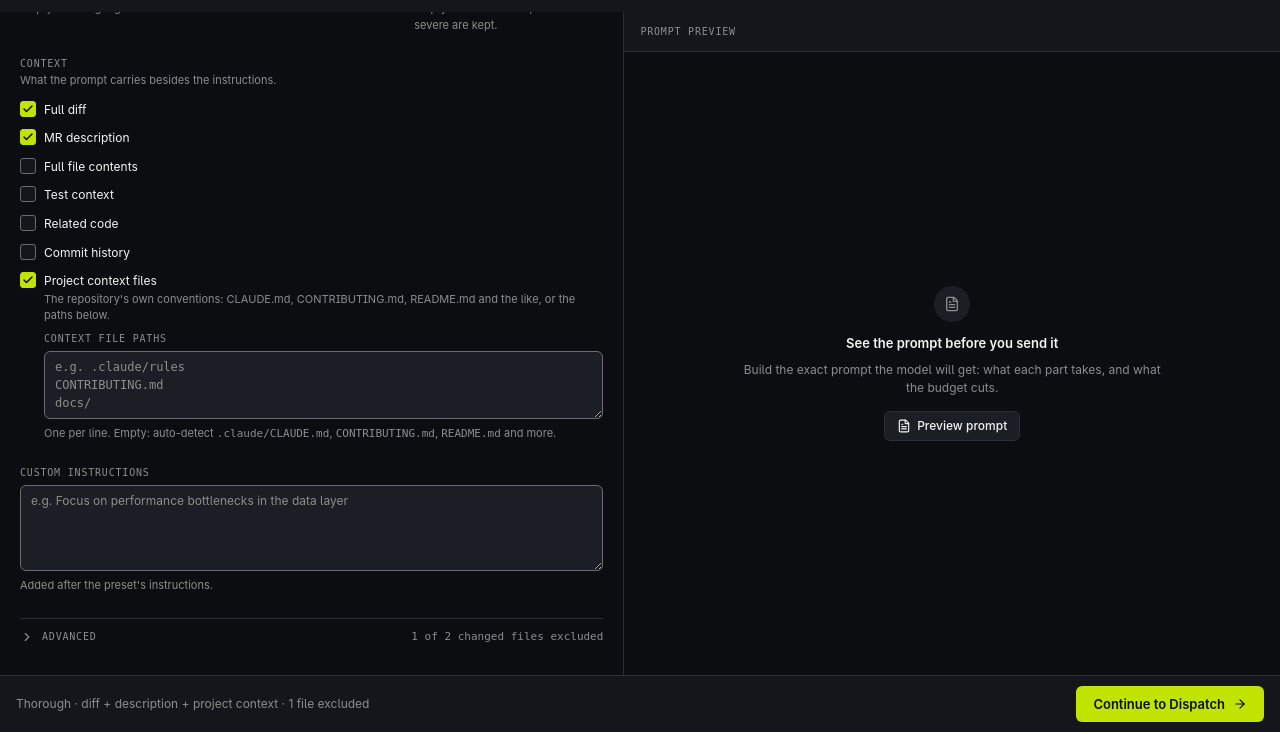
BriefStage — advanced › clamps the prompt budget to the allowed range
(page scrolled)
Click the button "Advanced 1 of 2 changed files excluded" at (69, 637), box [20, 619, 603, 655]
(page scrolled)
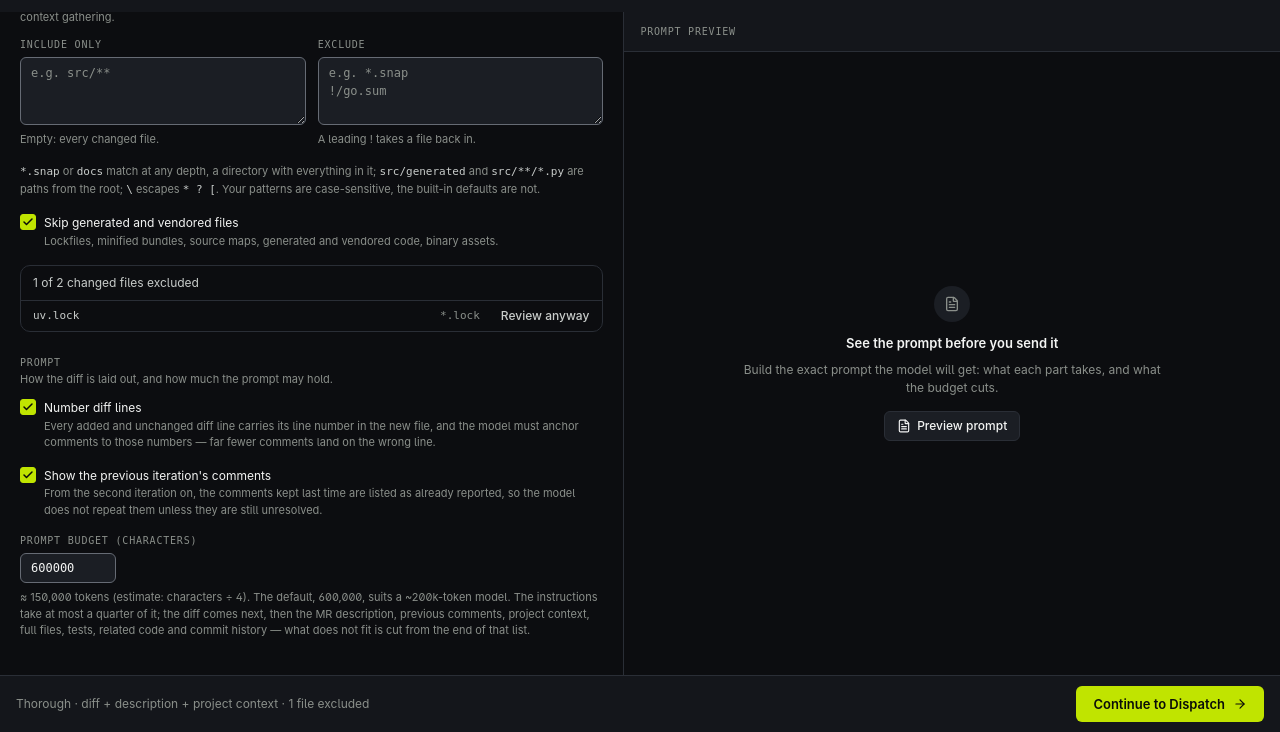
Replace the text in the number field labelled "Prompt budget (characters)" with "5000" at (68, 568), box [20, 554, 116, 584]
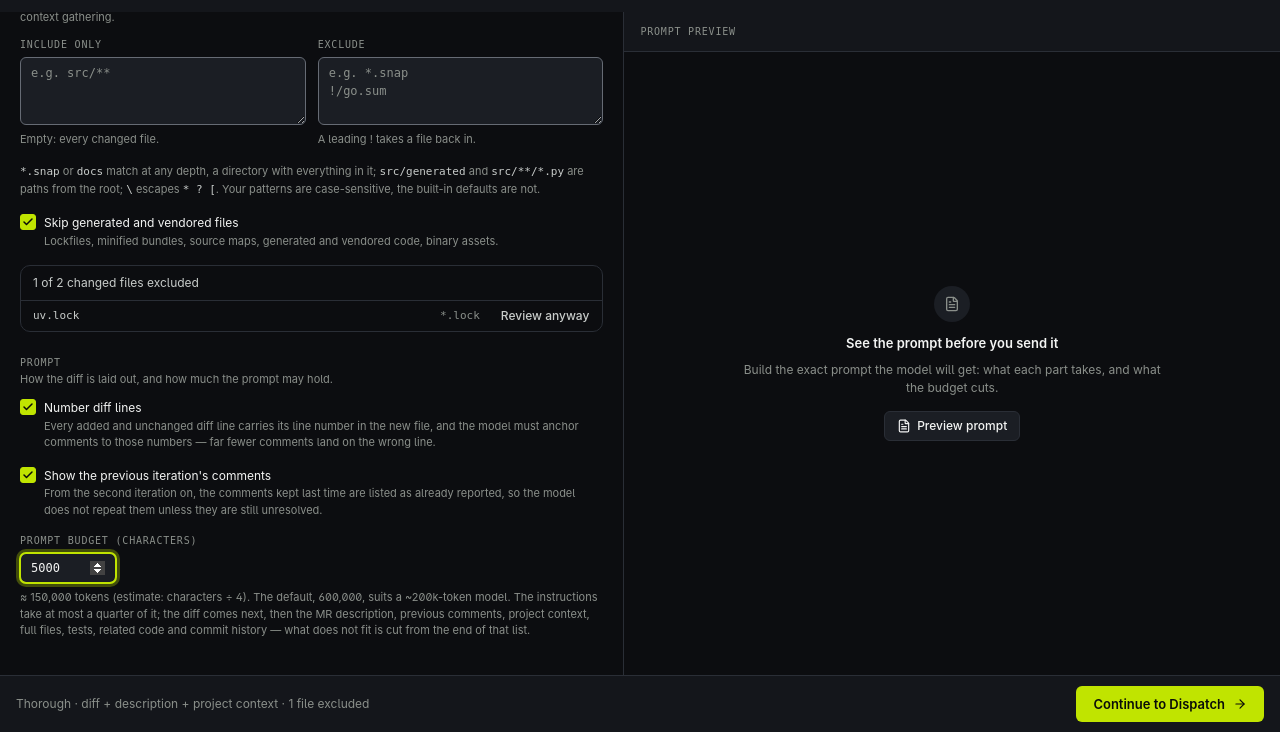
Leave the number field labelled "Prompt budget (characters)", box [20, 554, 116, 584]
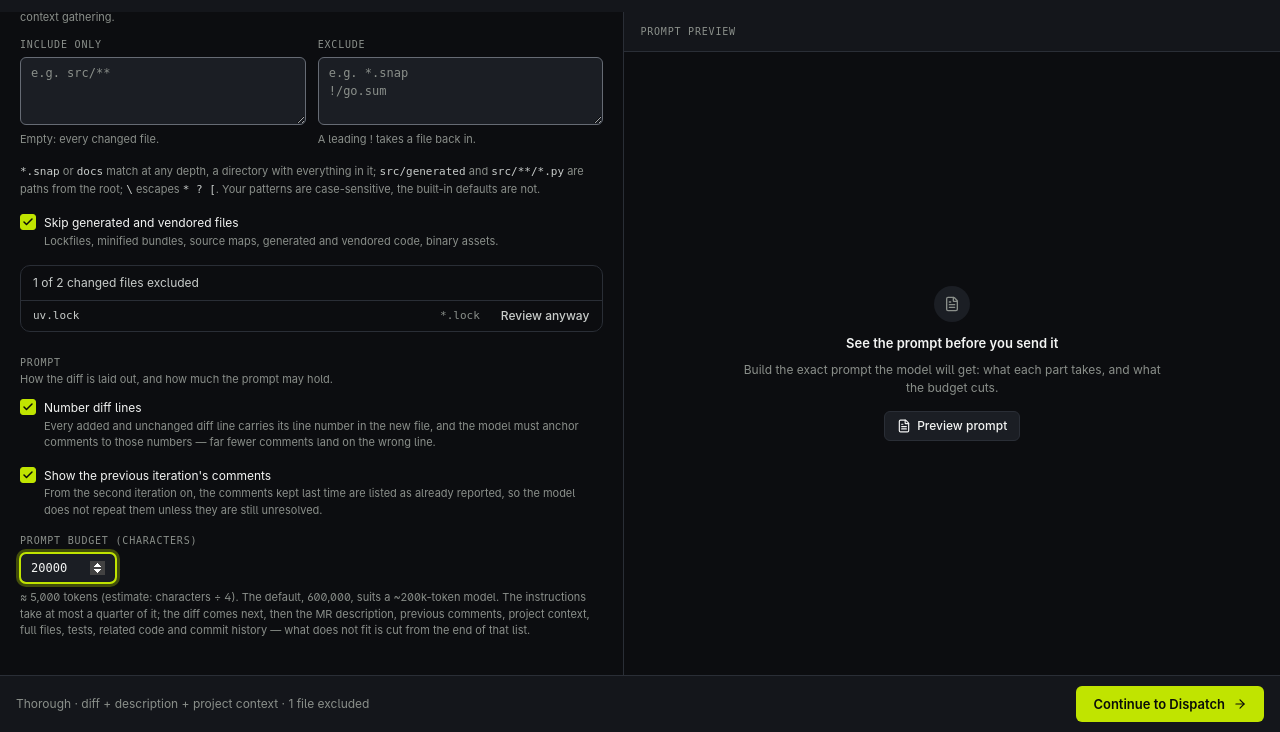
Check: the number field labelled "Prompt budget (characters)" holds "20000", box [20, 554, 116, 584]
